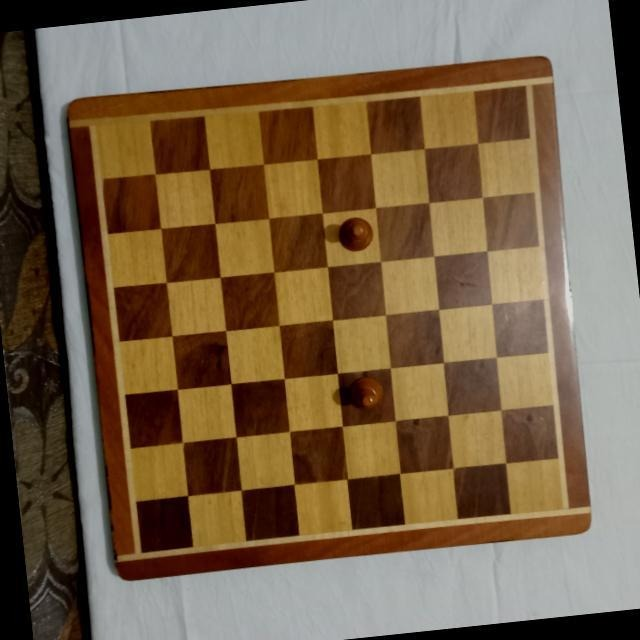white-pawn: (344, 374, 387, 414), (333, 214, 375, 254)
